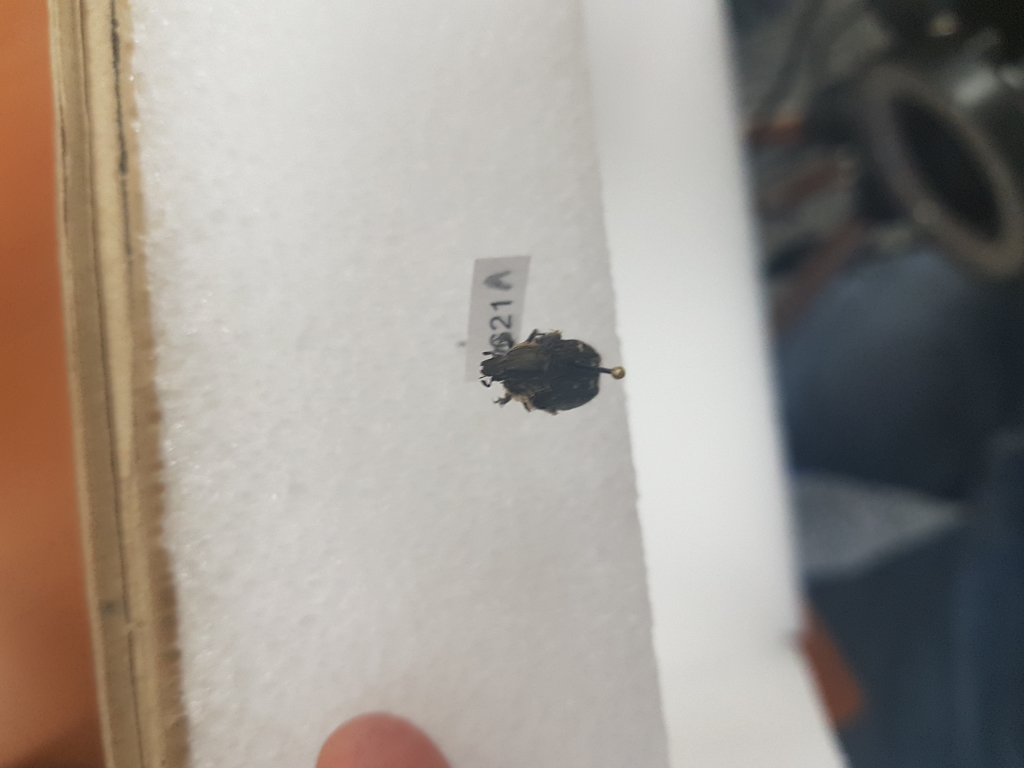Tropinota_senicula: (465, 323, 616, 427)
